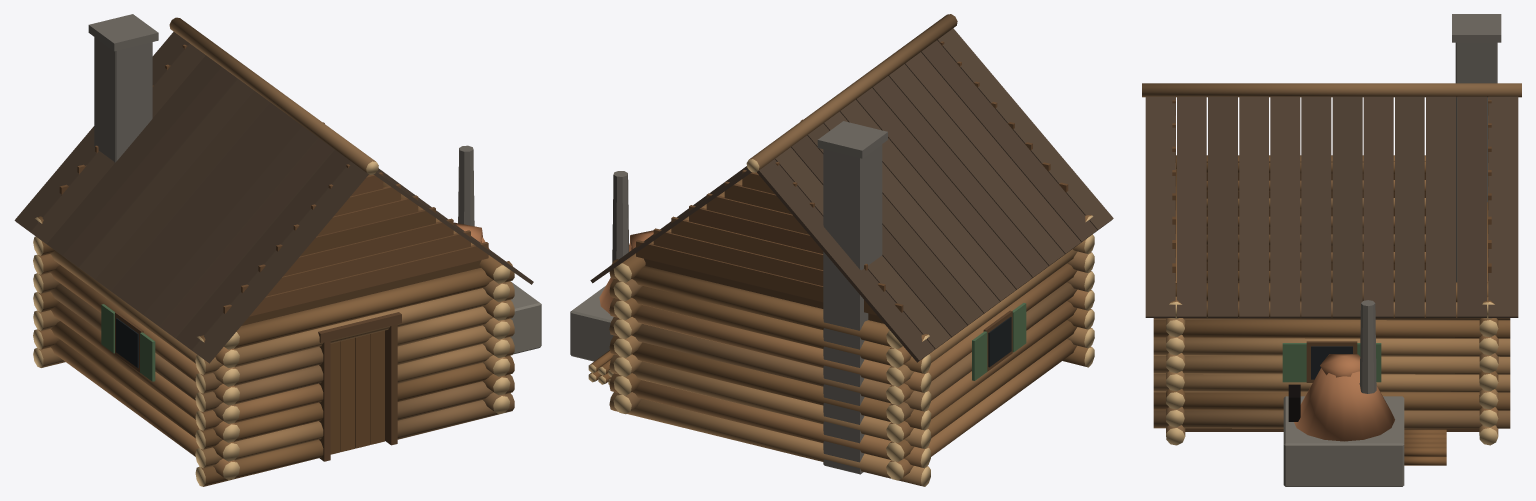
Rendered from bakery_1.glb.
The picture shows the model from 3 angles, left to right: view 1: azimuth 30°, elevation 25°; view 2: azimuth 150°, elevation 25°; view 3: azimuth 270°, elevation 25°; orthographic projection. The views are drawn at different scales.
Visible parts, largest first — view 1: bakery1_roof, bakery1_log, bakery1_wood, bakery1_stone, bakery1_glass; view 2: bakery1_log, bakery1_roof, bakery1_stone, bakery1_wood, bakery1_glass; view 3: bakery1_roof, bakery1_log, bakery1_stone, bakery1_clay, bakery1_wood, bakery1_glass, bakery1_soot.
Part boxes in pixels (x1,y1,x2,y2): bakery1_roof: (14, 31, 533, 363); bakery1_log: (33, 17, 514, 486); bakery1_wood: (59, 44, 488, 461); bakery1_stone: (88, 14, 541, 354); bakery1_glass: (116, 318, 138, 367); bakery1_log: (588, 14, 1094, 486); bakery1_roof: (590, 28, 1113, 362); bakery1_stone: (570, 121, 887, 474); bakery1_wood: (636, 41, 1068, 380); bakery1_glass: (988, 317, 1011, 367); bakery1_roof: (1145, 96, 1518, 317); bakery1_log: (1142, 83, 1521, 465); bakery1_stone: (1283, 14, 1501, 486); bakery1_clay: (1294, 354, 1394, 441); bakery1_wood: (1172, 97, 1491, 431); bakery1_glass: (1311, 346, 1352, 379); bakery1_soot: (1288, 384, 1300, 421).
Bounding box in the file's own units: 7.52 × 5.73 × 6.3.
